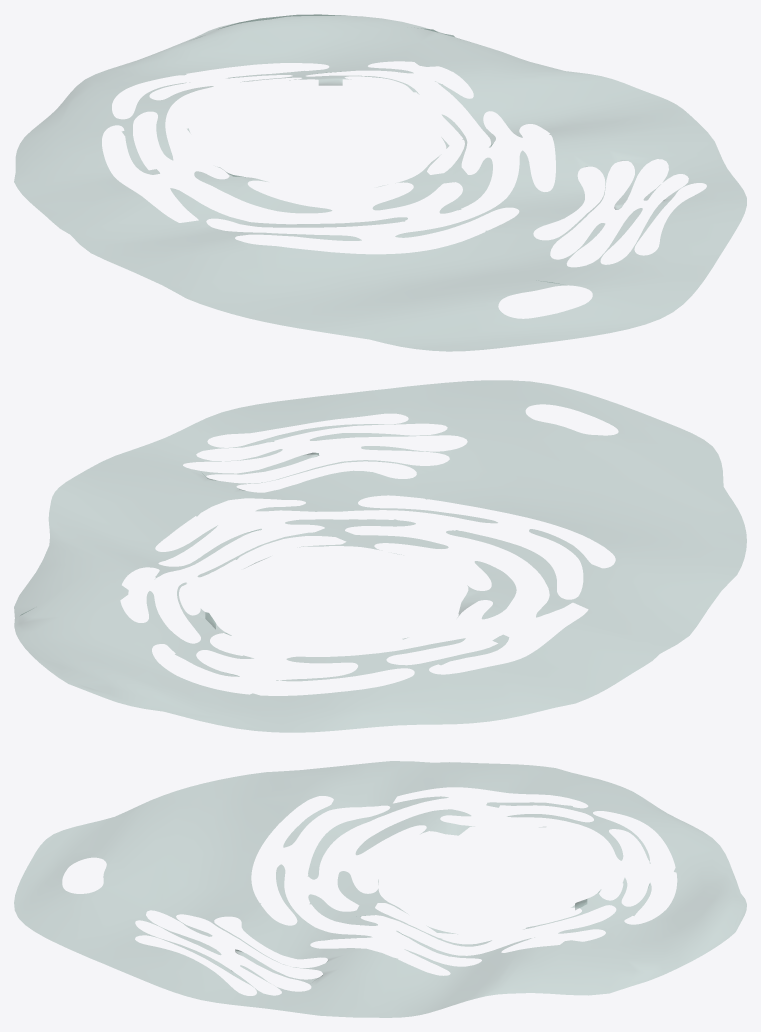
File: airnya.glb
The picture shows the model from 3 angles, top to bottom: view 1: azimuth 30°, elevation 25°; view 2: azimuth 150°, elevation 25°; view 3: azimuth 270°, elevation 25°; orthographic projection. The views are drawn at different scales.
Visible parts, largest first — view 1: Sphere.001; view 2: Sphere.001; view 3: Sphere.001.
Boxes of the visible parts, box(x1,y1,x2,y2) form: Sphere.001: box(14, 14, 746, 351); Sphere.001: box(14, 380, 746, 732); Sphere.001: box(14, 761, 746, 1017).
Bounding box in the file's own units: 5.77 × 0.2611 × 6.96.
